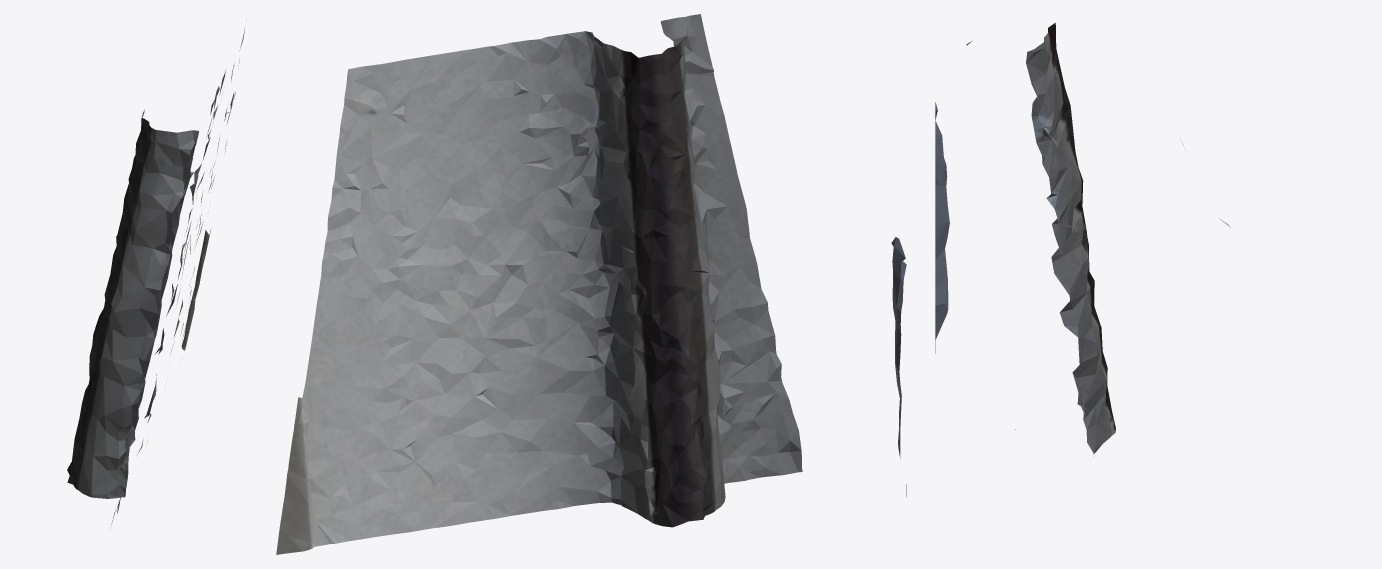
3 views of the same model, side by side, from view 1: azimuth 30°, elevation 25°; view 2: azimuth 150°, elevation 25°; view 3: azimuth 270°, elevation 25° (orthographic). The views are drawn at different scales.
Size of the model in its own units: 0.8374 by 0.8374 by 0.7593.
3 materials, 3 textured.
